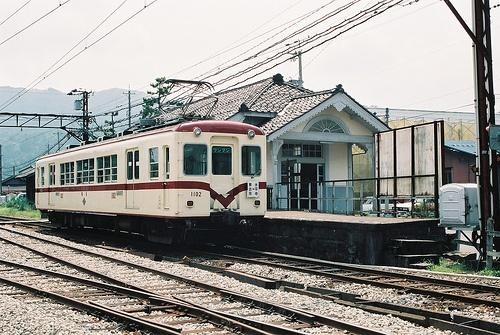train: (29, 119, 269, 248)
